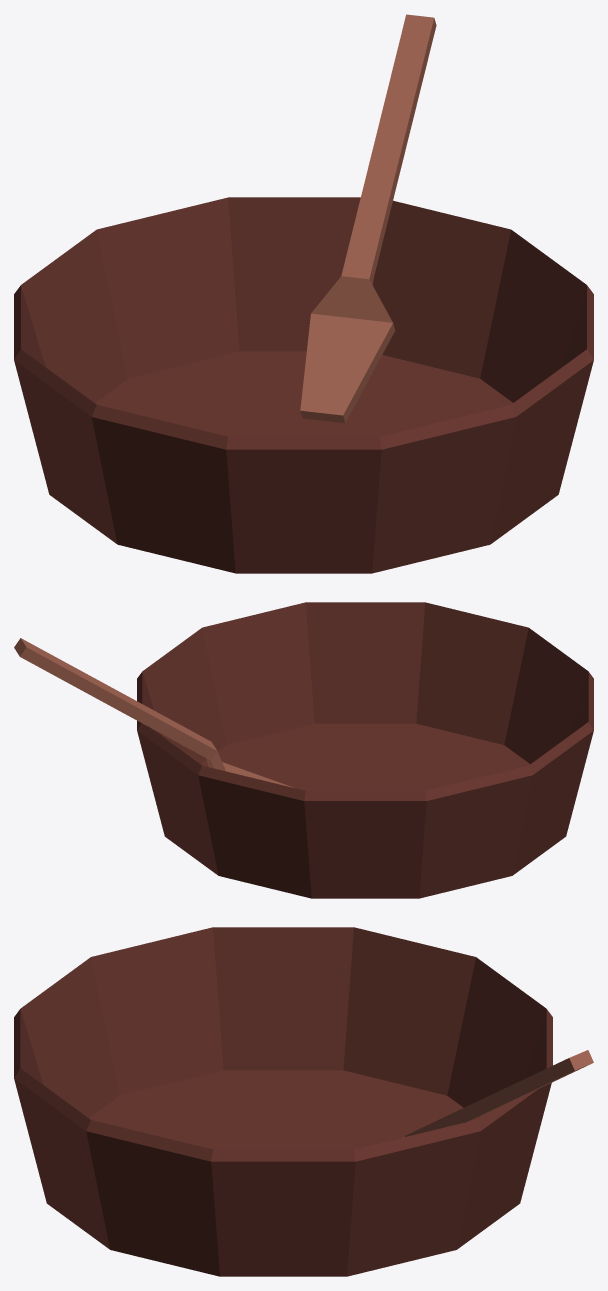
File: Plate_5_Red.fbx
3 renders of one model, top to bottom at view 1: azimuth 30°, elevation 25°; view 2: azimuth 150°, elevation 25°; view 3: azimuth 270°, elevation 25°, orthographic. The views are drawn at different scales.
Visible parts, largest first — view 1: Plate_5_Red_Part_1, Plate_5_Red_Part_2; view 2: Plate_5_Red_Part_1, Plate_5_Red_Part_2; view 3: Plate_5_Red_Part_1, Plate_5_Red_Part_2.
Boxes of the visible parts, left/top/right/bottom form: Plate_5_Red_Part_1: left=14, top=197, right=593, bottom=573; Plate_5_Red_Part_2: left=300, top=14, right=436, bottom=422; Plate_5_Red_Part_1: left=137, top=602, right=593, bottom=898; Plate_5_Red_Part_2: left=14, top=638, right=293, bottom=787; Plate_5_Red_Part_1: left=14, top=927, right=552, bottom=1276; Plate_5_Red_Part_2: left=403, top=1050, right=593, bottom=1137.
Size of the model in its own units: 30.18 by 14.22 by 30.18.
